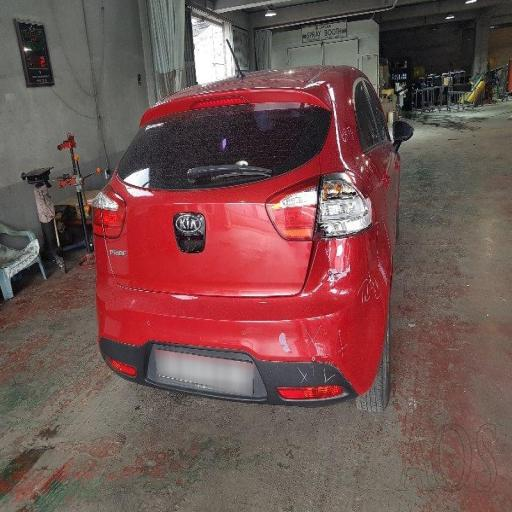broken: (289, 163, 380, 270)
scratch: (230, 306, 357, 408)
